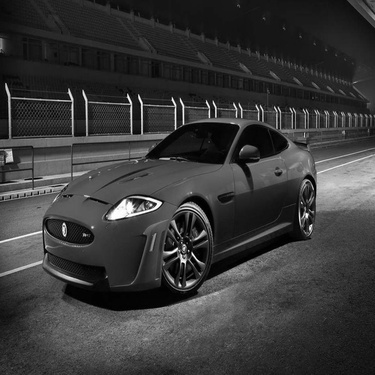car: (37, 108, 323, 307)
